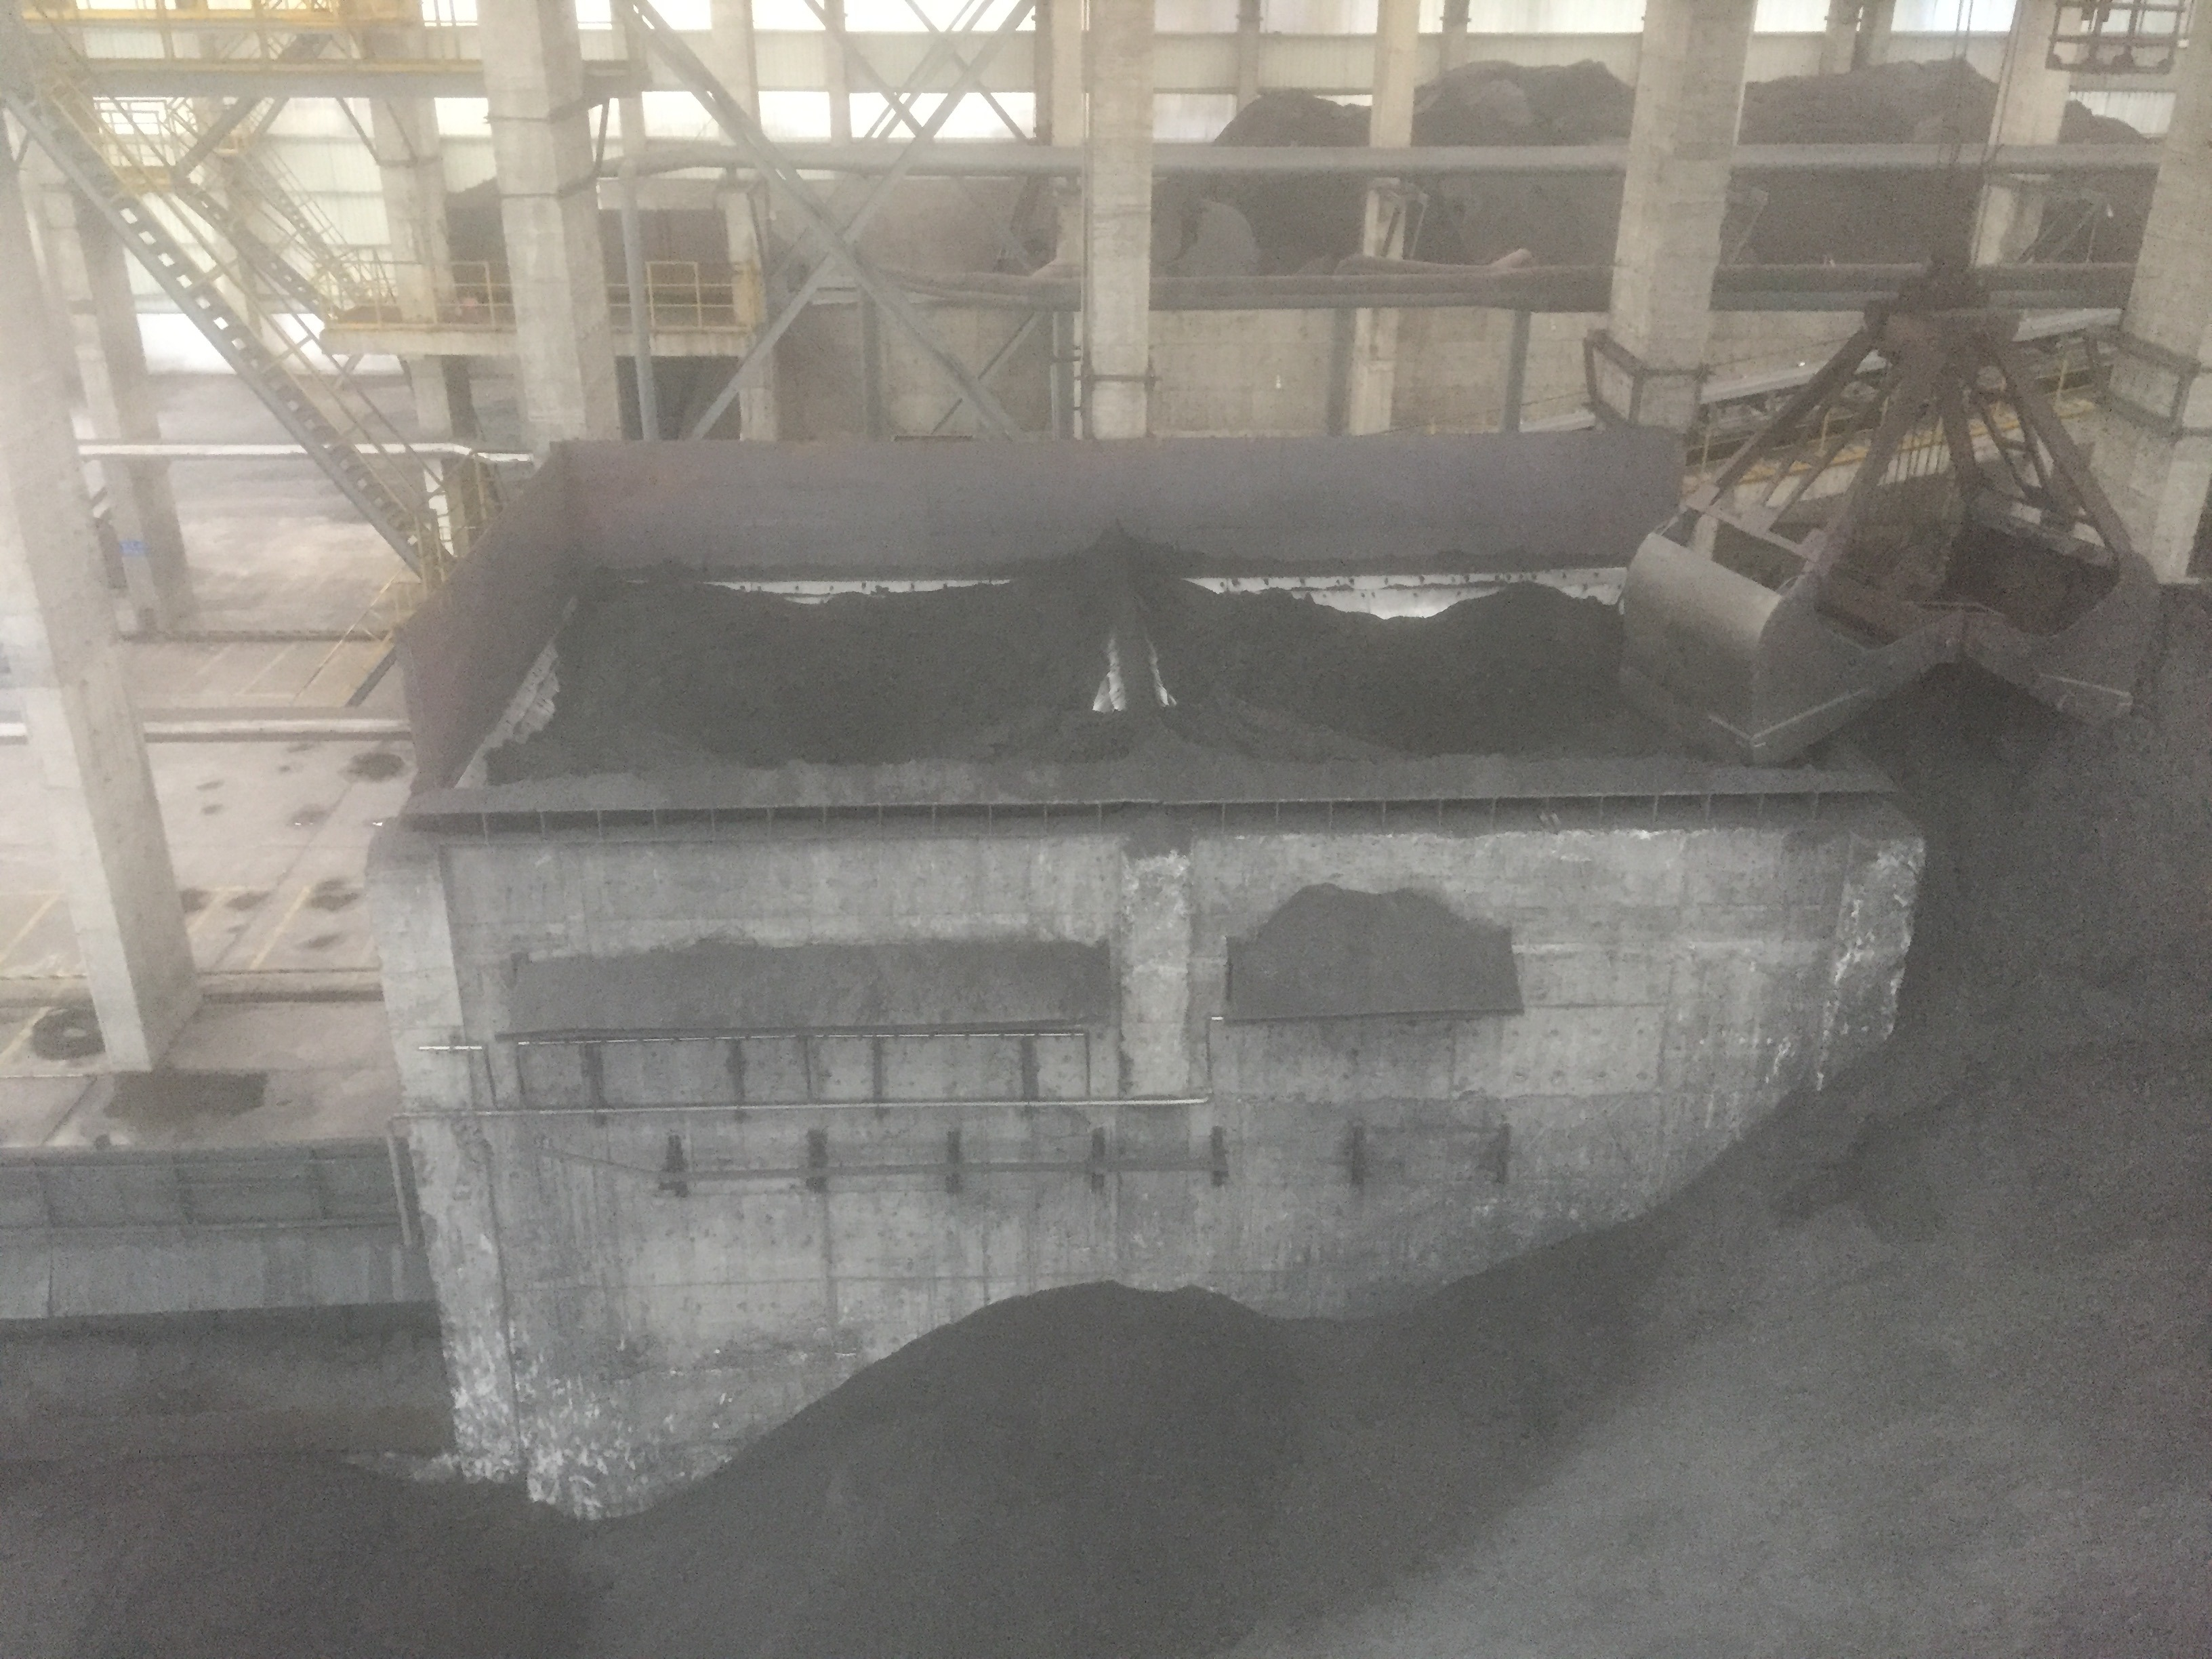grab: (1597, 261, 2181, 772)
